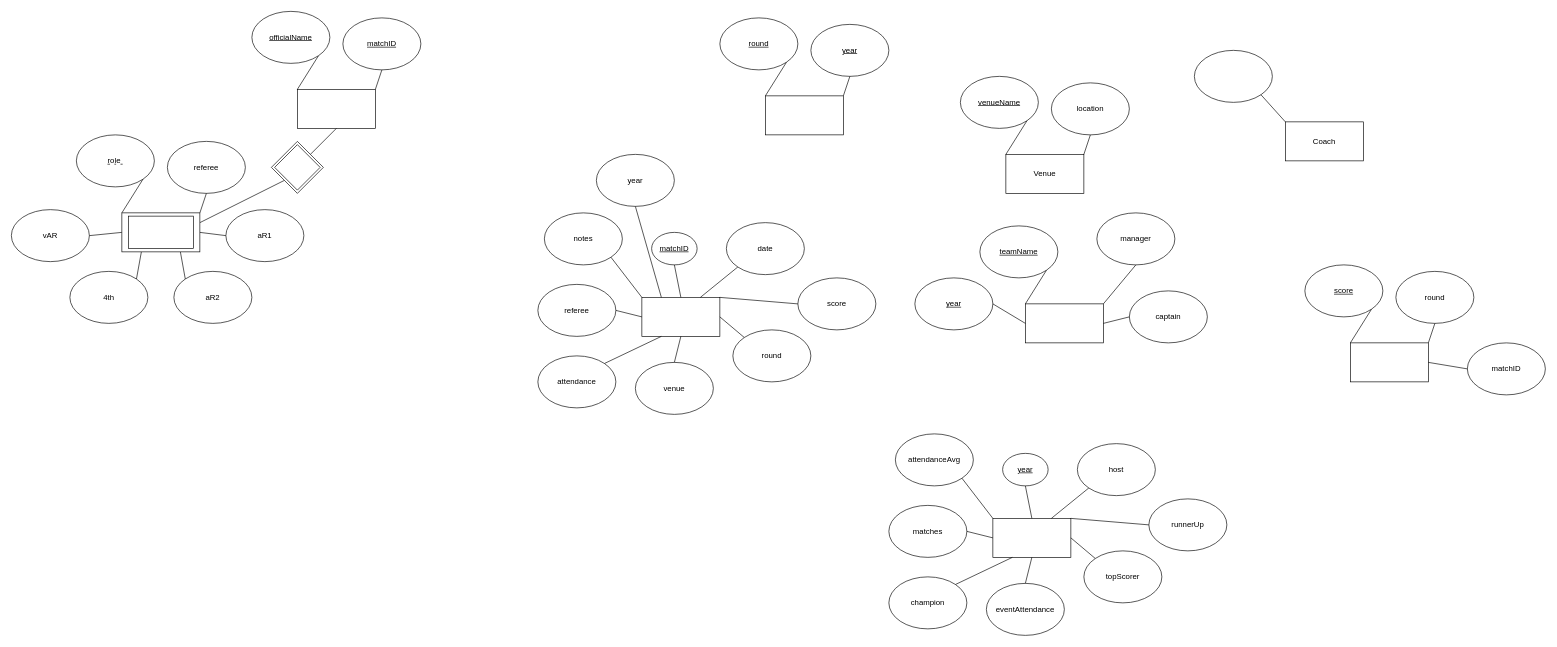
Some shapes in this 1557 by 647 pixel diagram are drawn without their labels. Here are the shapes that lost their labels. From the top down, the centre of each, then its label:
At [1233,76]: "coachName".
At [336,108]: "Official".
At [804,115]: "Stage".
At [297,167]: "isAn".
At [160,232]: "OfficialRole".
At [680,316]: "Match".
At [1064,323]: "Team".
At [1389,362]: "Winner".
At [1031,537]: "Event".
